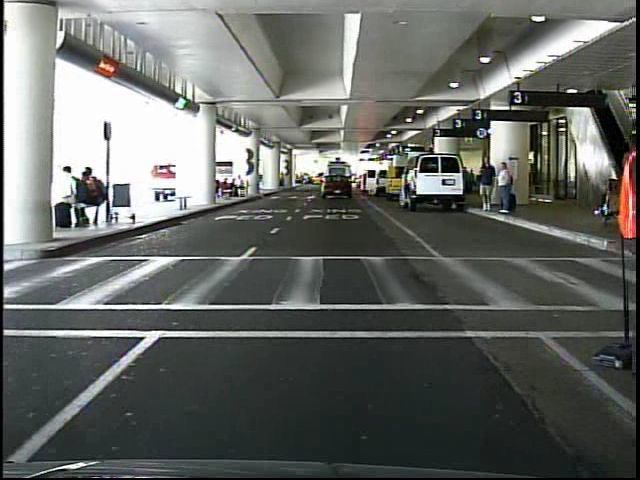person: (607, 110, 640, 379), (496, 158, 517, 220), (476, 152, 496, 217), (320, 170, 331, 194)
